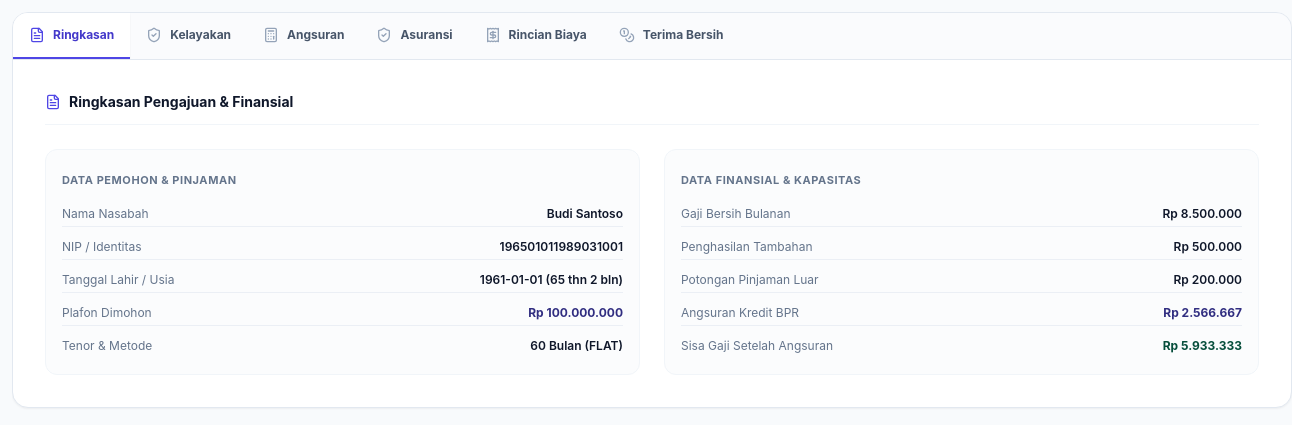
Test: TASK-049: Result Detail Sections & Tab Breakdown Tests › should switch to Terima Bersih tab and display net disbursement
The image size is (1292, 425).
Click the button with test id "tab-terimaBersih" at (671, 36), box [603,13,739,59]
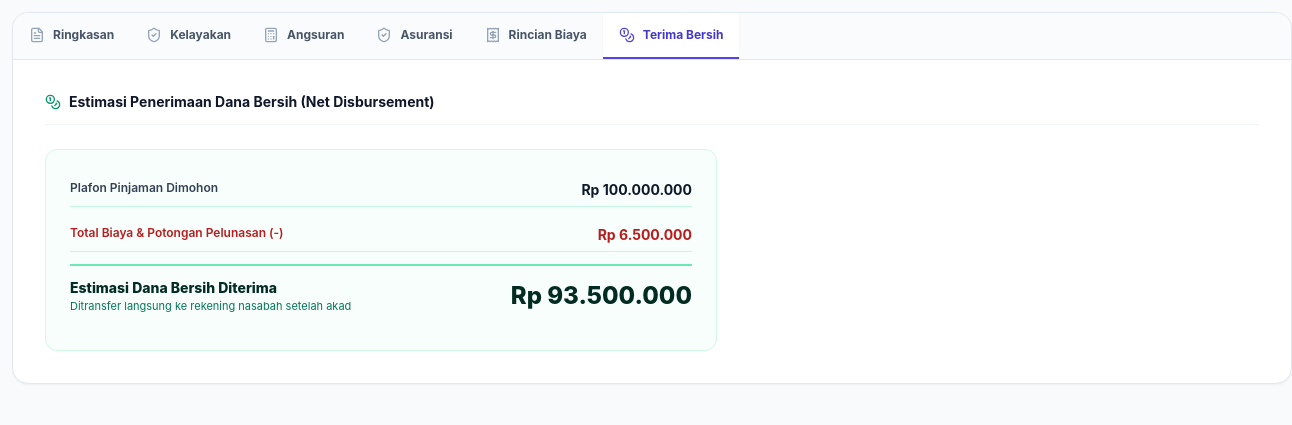
Check: the element with test id "tab-content-terima-bersih" is shown, box [45,92,1259,351]
Check: the text "Estimasi Dana Bersih Diterima" is shown, box [70,279,277,296]
Check: the text with test id "net-disbursement-value" shows "93.500.000", box [511,281,692,310]
